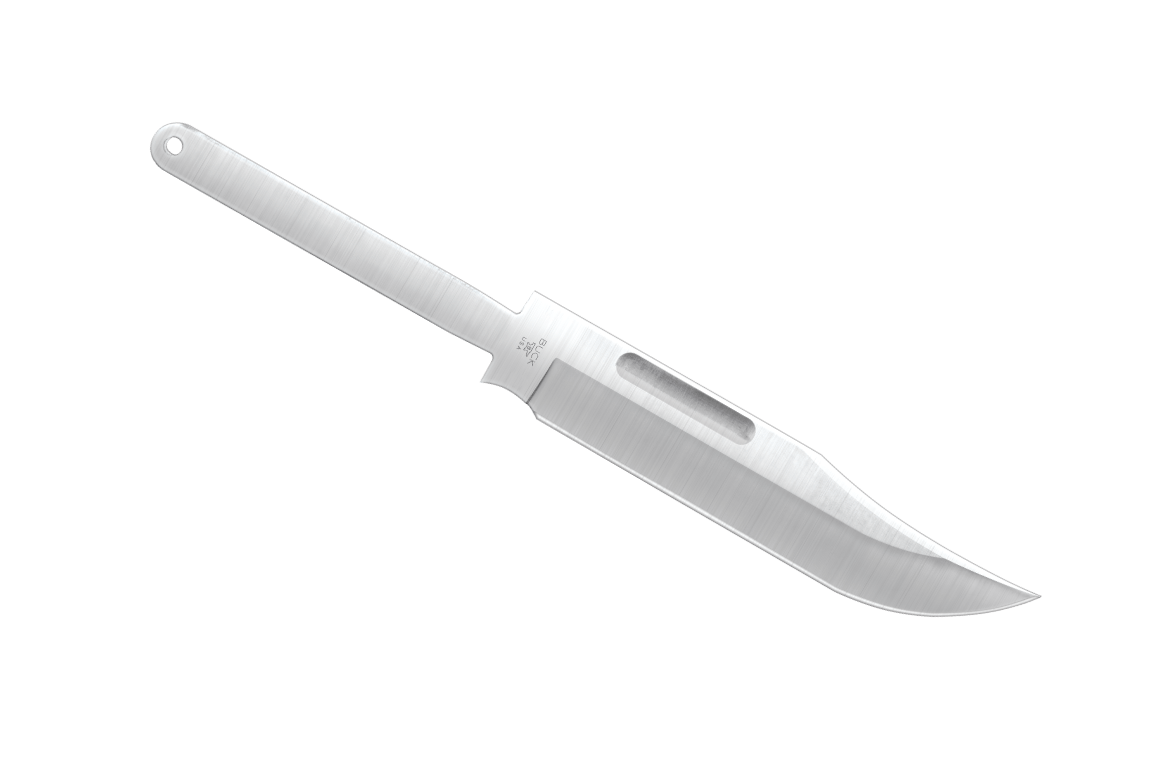knife: (147, 124, 1042, 618)
